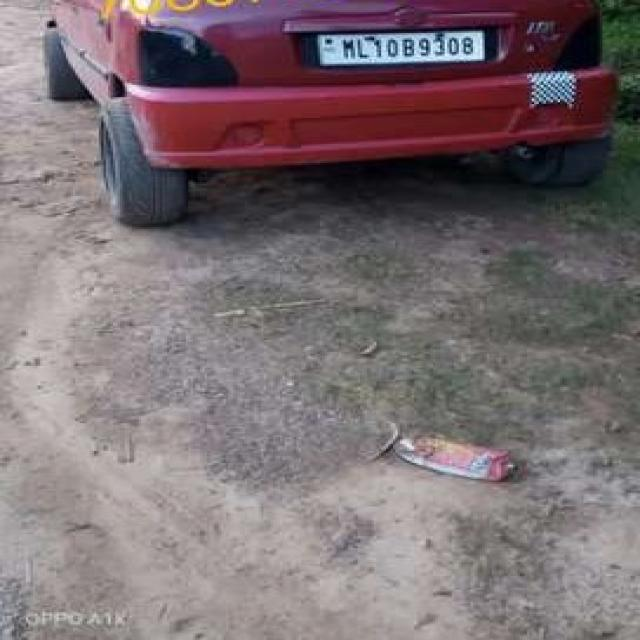licenseplate: (308, 26, 492, 68)
